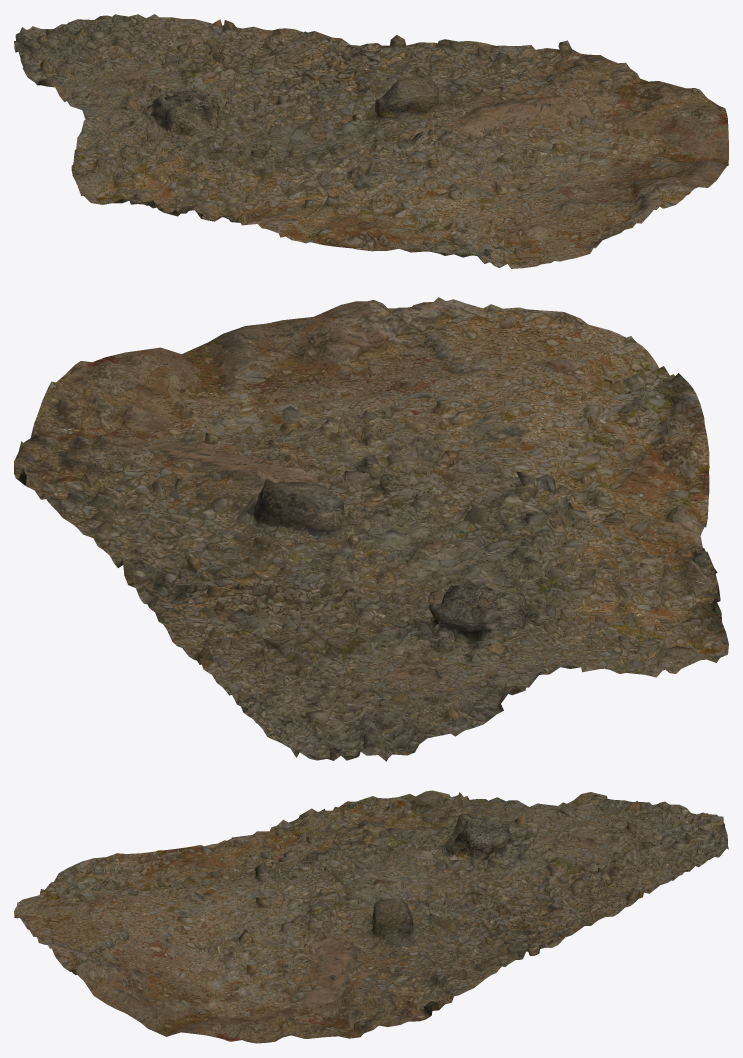
Rendered from coast-land-rocks-04_2K_9d63d4e8-5064-4b62-8bfa-f7d45027fcf6_collision.dae.
3 renders of one model, top to bottom at view 1: azimuth 30°, elevation 25°; view 2: azimuth 150°, elevation 25°; view 3: azimuth 270°, elevation 25°, orthographic. The views are drawn at different scales.
Visible parts, largest first — view 1: coast_land_rocks_04_LOD0; view 2: coast_land_rocks_04_LOD0; view 3: coast_land_rocks_04_LOD0.
Part boxes in pixels (x1,y1,x2,y2): coast_land_rocks_04_LOD0: (14, 14, 728, 268); coast_land_rocks_04_LOD0: (14, 297, 728, 761); coast_land_rocks_04_LOD0: (14, 790, 728, 1043).
Size of the model in its own units: 9.96 by 11.49 by 0.8398.
